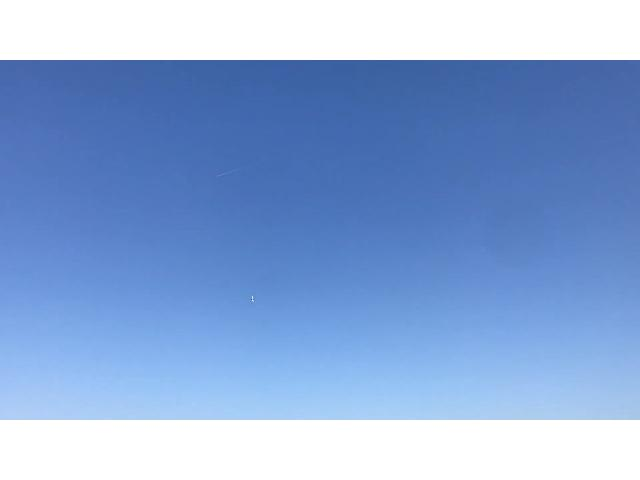Anti-Drone: (242, 284, 262, 307)
